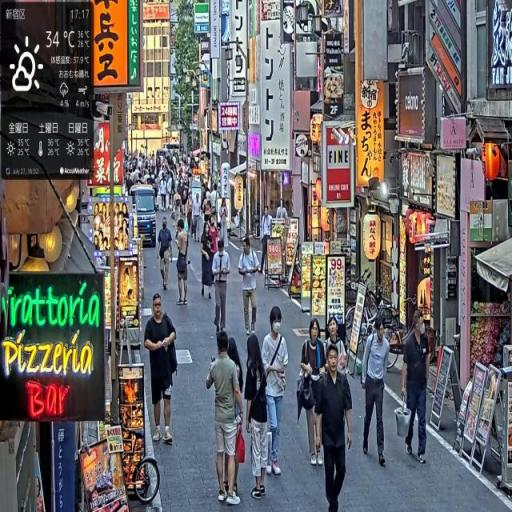person: (206, 331, 246, 504), (316, 345, 355, 512), (144, 292, 180, 449), (262, 308, 291, 480), (361, 317, 394, 467), (297, 318, 329, 469), (402, 312, 431, 464), (239, 237, 262, 337), (213, 237, 232, 336), (177, 225, 192, 309), (157, 217, 174, 291)
